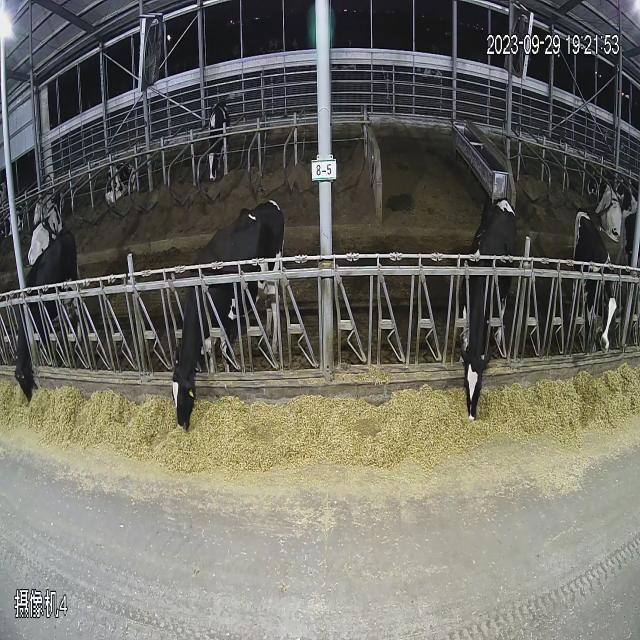feeding: (172, 186, 306, 473), (452, 180, 527, 434), (13, 234, 83, 406), (566, 199, 616, 370), (196, 88, 236, 192)
lying down: (98, 152, 156, 212)
